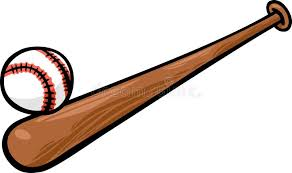baseball bat: (2, 1, 292, 173)
